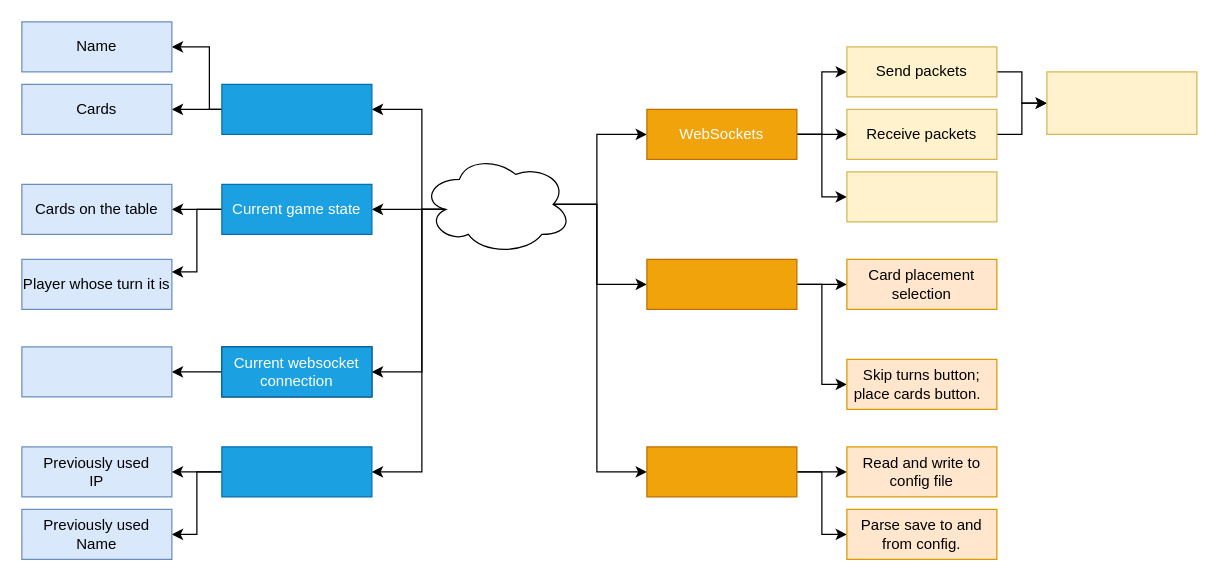
Image size: 1219x581. Some labels were removed from this diagram. The shapes that lost their labels are listed below. From the top down, each one's centre as x and y in pixels, then its label:
[296,108]: Current player info
[1121,102]: Parse between JSON strings and packet objects
[496,203]: Client
[921,196]: Error and close handling
[721,283]: User interface
[96,371]: IP / Host
[296,471]: Current saved configuration
[721,471]: Persistent data storage
